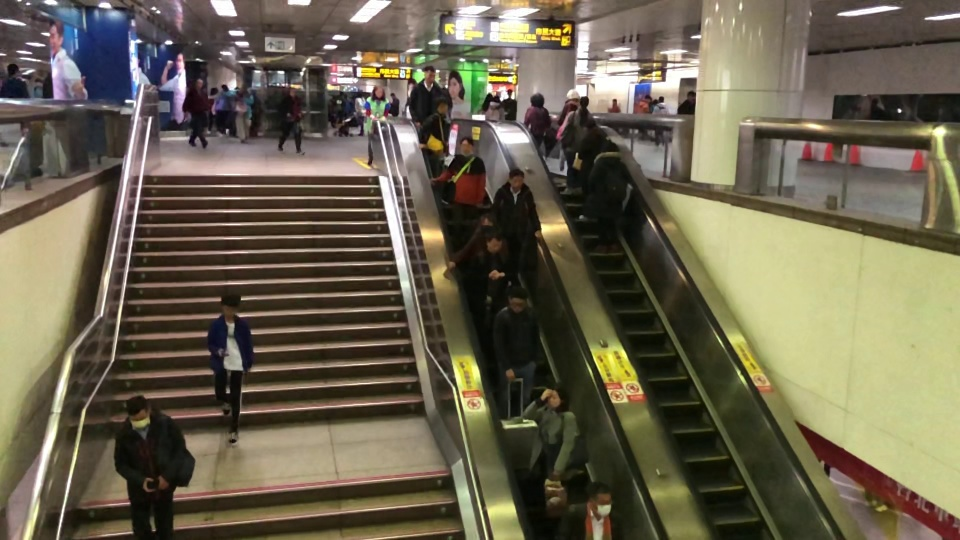person_head: (585, 481, 613, 518), (125, 394, 151, 430), (545, 382, 569, 411), (506, 286, 528, 313), (219, 293, 241, 318), (507, 168, 525, 190), (479, 212, 497, 234), (485, 234, 503, 254), (431, 97, 449, 115), (459, 134, 473, 155), (600, 139, 619, 154), (529, 91, 545, 107), (423, 65, 436, 84), (582, 116, 597, 131), (5, 62, 19, 78), (371, 85, 385, 100), (566, 87, 580, 101), (239, 83, 250, 96), (578, 95, 589, 108), (686, 90, 696, 104), (193, 77, 203, 90), (208, 86, 218, 97), (288, 87, 296, 99), (220, 83, 230, 92), (491, 95, 500, 103), (643, 94, 651, 103), (657, 95, 665, 104), (506, 88, 513, 97), (356, 90, 363, 98), (389, 92, 396, 99), (342, 93, 348, 101), (611, 98, 617, 105), (339, 91, 344, 98), (652, 98, 657, 105), (331, 95, 336, 100)
person_vbox: (111, 394, 187, 540), (207, 293, 255, 444), (460, 234, 517, 355), (490, 286, 541, 421), (521, 382, 589, 483), (428, 134, 486, 250), (491, 168, 542, 285), (585, 139, 628, 254), (554, 481, 627, 540), (560, 95, 596, 195), (576, 116, 610, 220), (447, 212, 509, 269), (418, 96, 450, 178), (409, 65, 447, 128), (362, 85, 391, 166), (181, 77, 213, 148), (275, 86, 306, 155), (523, 91, 552, 149), (234, 83, 254, 144), (0, 63, 30, 98), (651, 95, 670, 146), (556, 87, 580, 127), (214, 83, 231, 137), (636, 94, 651, 140), (205, 86, 219, 134), (333, 91, 346, 136), (354, 90, 366, 136), (484, 95, 505, 121), (501, 88, 517, 121), (675, 90, 696, 115), (342, 93, 353, 137), (607, 98, 620, 134), (327, 95, 336, 128), (388, 92, 399, 117), (42, 72, 52, 98), (648, 98, 657, 114)
